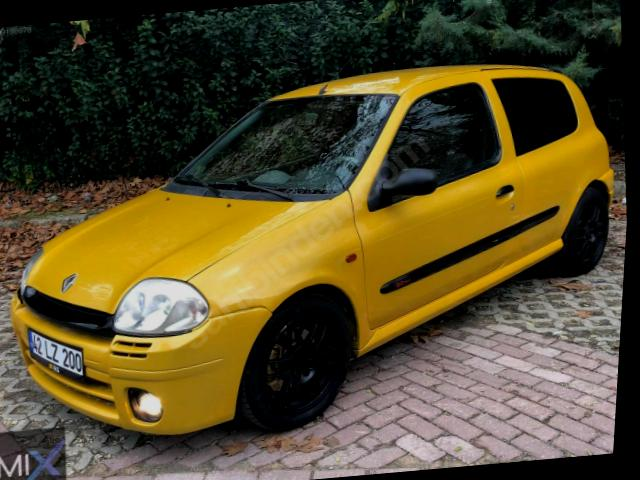plaka: (28, 329, 83, 378)
